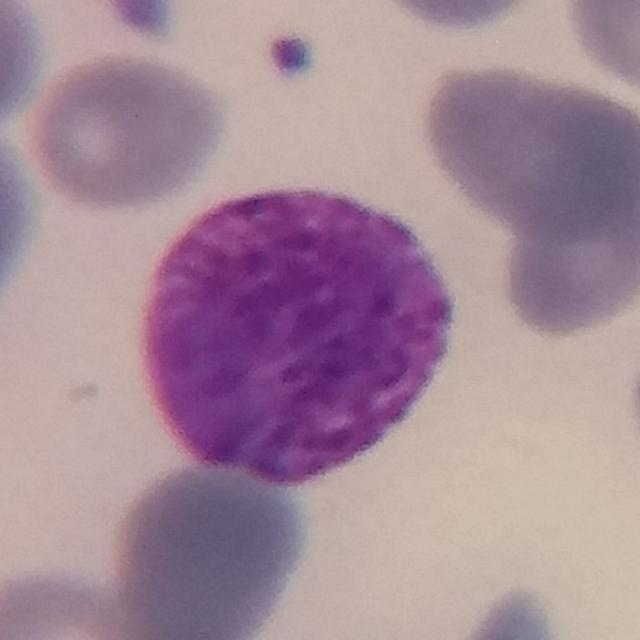baso: (139, 177, 471, 489)
